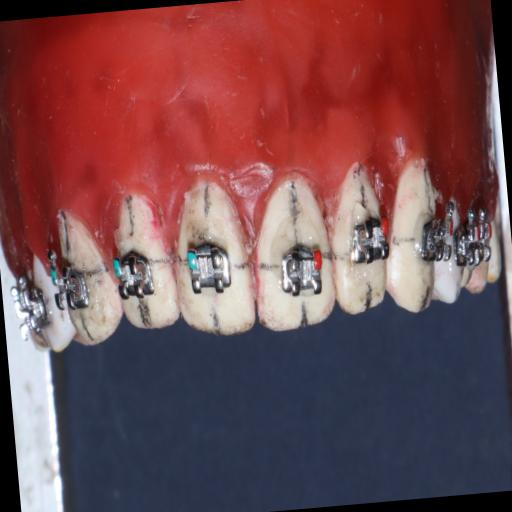incorrect_brace: (272, 240, 330, 304), (182, 235, 237, 299)
